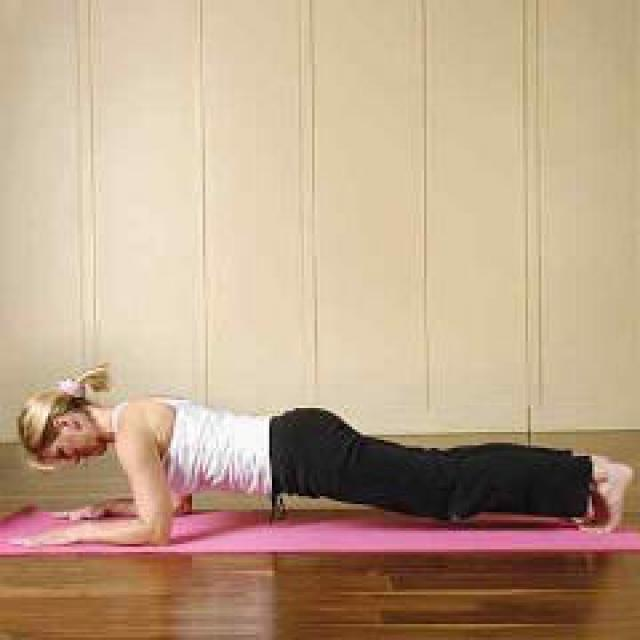yoga-pose plank: (14, 368, 637, 548)
